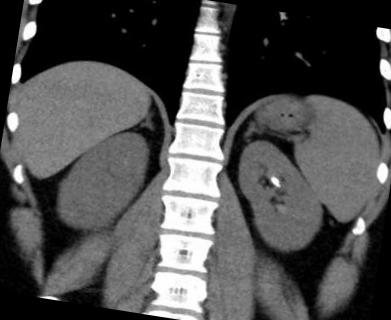Tas_Var: (268, 174, 282, 190)
